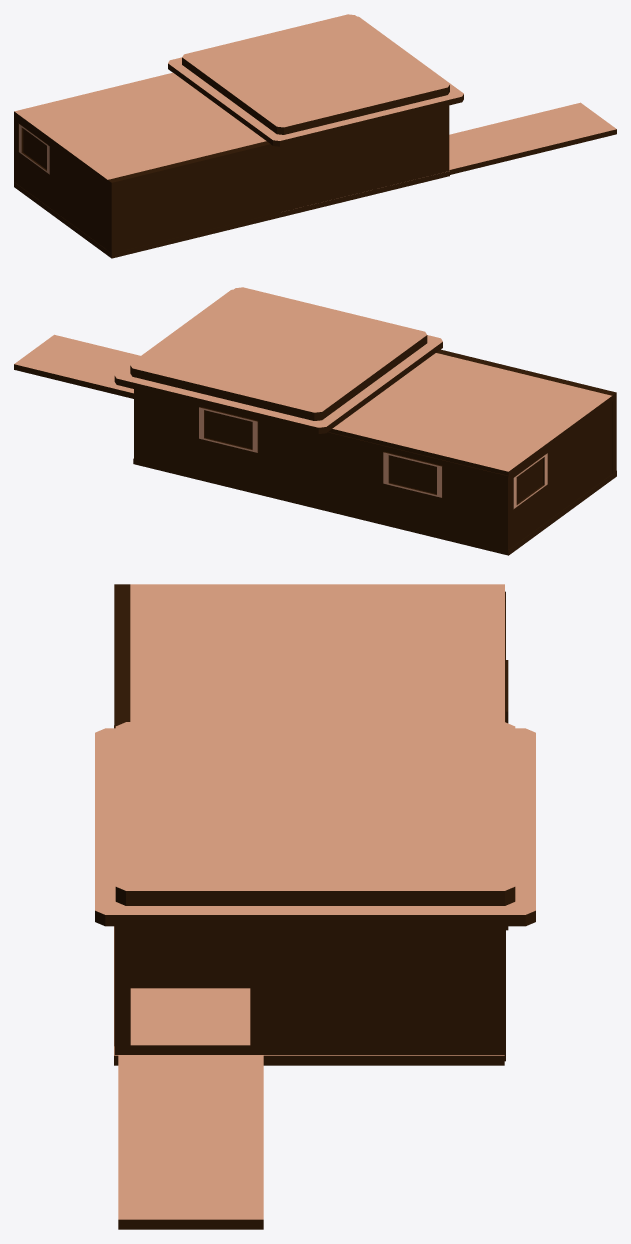
File: Side_House.fbx
The picture shows the model from 3 angles, top to bottom: view 1: azimuth 30°, elevation 25°; view 2: azimuth 150°, elevation 25°; view 3: azimuth 270°, elevation 25°; orthographic projection. The views are drawn at different scales.
Visible parts, largest first — view 1: polySurface116; view 2: polySurface116; view 3: polySurface116.
Boxes of the visible parts, x1,y1,x2,y2 form: polySurface116: (14,14,616,258); polySurface116: (14,287,616,555); polySurface116: (95,584,535,1229).
Bounding box in the file's own units: 2843 × 476 × 1073.
